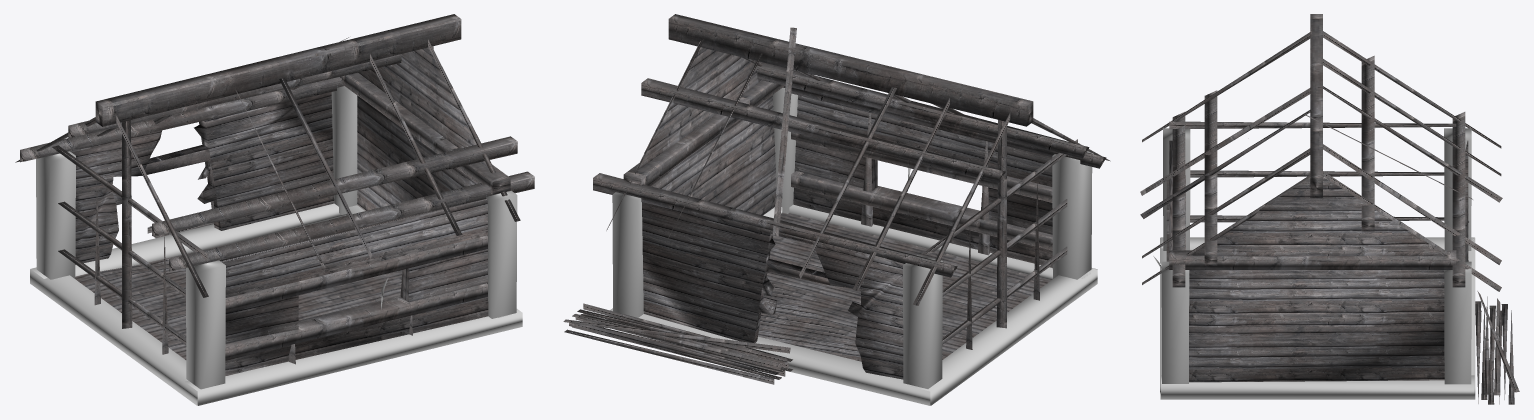
Rendered from ruins_house2_LOD.fbx.
3 views of the same model, side by side, from view 1: azimuth 30°, elevation 25°; view 2: azimuth 150°, elevation 25°; view 3: azimuth 270°, elevation 25° (orthographic). The views are drawn at different scales.
Visible parts, largest first — view 1: WoodPlanks; view 2: WoodPlanks; view 3: WoodPlanks.
Boxes of the visible parts, x1,y1,x2,y2 form: WoodPlanks: (15, 14, 534, 405); WoodPlanks: (563, 14, 1110, 405); WoodPlanks: (1140, 14, 1519, 404).
Size of the model in its own units: 1002 by 680 by 970.
